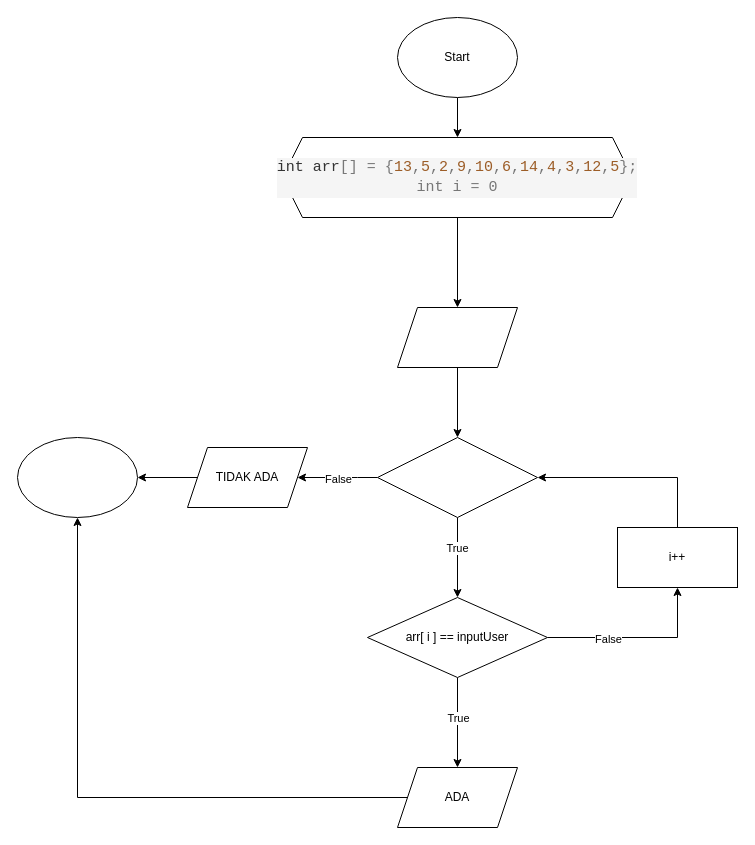
The diagram is 755 pixels wide and 845 high, and some of its shapes have lost their labels. The centre of each missing label's shape, as x and y in pixels:
End: (x=77, y=477)
i < arr.length: (x=457, y=477)
int inputUser: (x=457, y=337)
